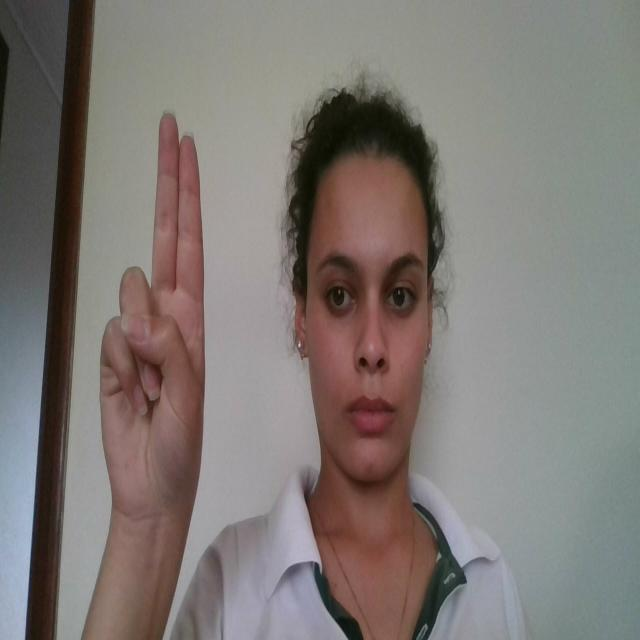U: (100, 108, 207, 544)
